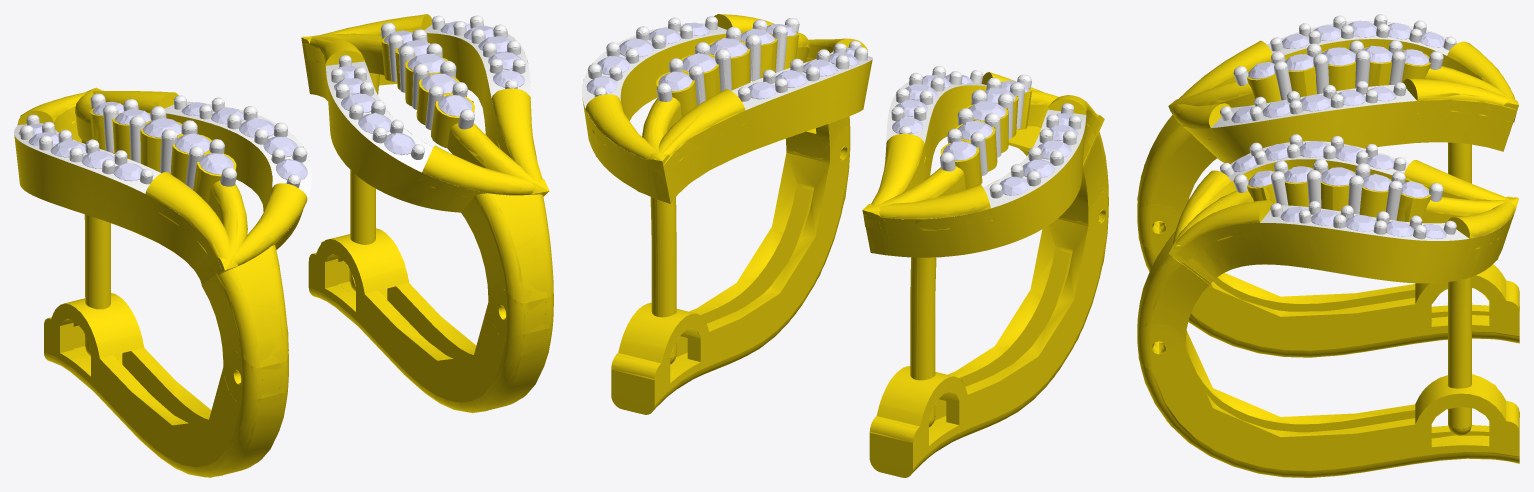
3 renders of one model, left to right at view 1: azimuth 30°, elevation 25°; view 2: azimuth 150°, elevation 25°; view 3: azimuth 270°, elevation 25°, orthographic. The views are drawn at different scales.
Visible parts, largest first — view 1: highPolyMesh, lowPolyMesh; view 2: highPolyMesh, lowPolyMesh; view 3: highPolyMesh, lowPolyMesh.
Boxes of the visible parts, <box> form: highPolyMesh: <box>14,14,553,477</box>; lowPolyMesh: <box>15,14,553,477</box>; highPolyMesh: <box>582,14,1108,477</box>; lowPolyMesh: <box>582,14,1108,477</box>; highPolyMesh: <box>1137,14,1519,477</box>; lowPolyMesh: <box>1137,14,1519,477</box>.
Bounding box in the file's own units: 0.0213 × 0.0141 × 0.016.
